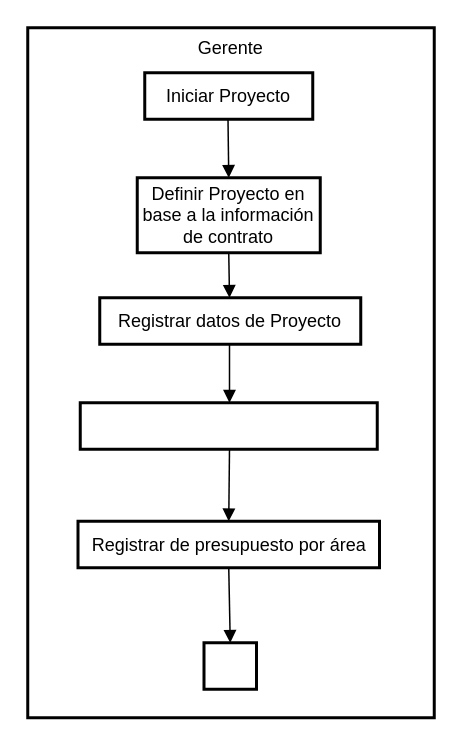
The diagram is 461 pixels wide and 744 high, and some of its shapes have lost their labels. The centre of each missing label's shape, as x and y in pixels:
Asignar Presupuesto a Áreas: point 228,425
Fin: point 229,665
